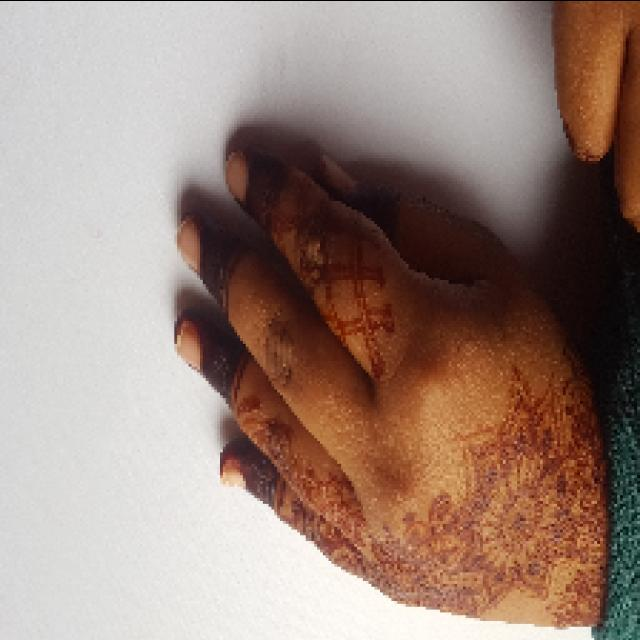Nail: (178, 219, 201, 272), (177, 318, 200, 370), (226, 151, 247, 199), (323, 155, 354, 181), (222, 465, 245, 488)
